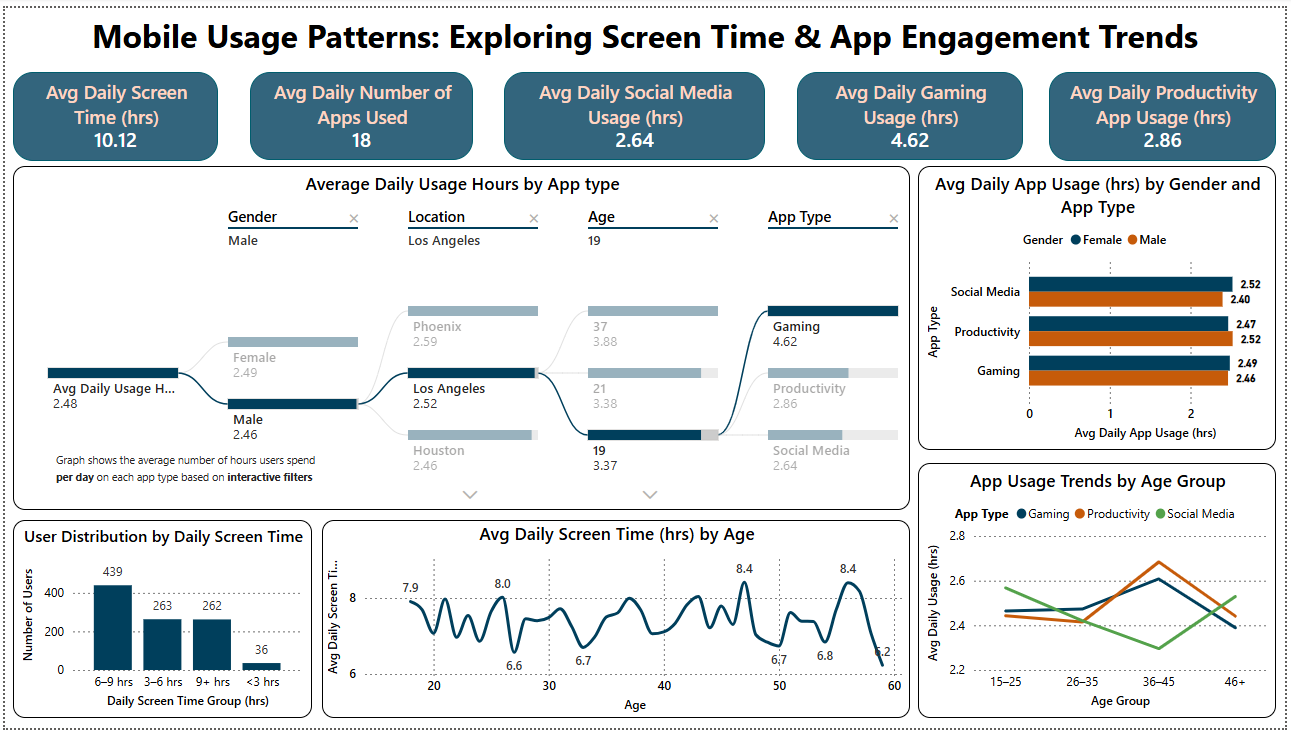

The dashboard page shown, as its layout file describes it:
{"tool":"powerbi","page":{"name":"Page 1","canvas":[1280,720],"ordinal":0},"visuals":[{"type":"textbox","box":[0,0,1280,75.8],"z":0},{"type":"decompositionTreeVisual","title":"Average Daily Usage Hours by App type","fields":{"ExplainBy":["mobile_usage_behavioral_analysis.Gender","mobile_usage_behavioral_analysis.Location","mobile_usage_behavioral_analysis.Age","App_Usage_By_Type.App_Usage_Type"],"Analyze":["App_Usage_By_Type.Avg Daily Usage Hours by App Type"]},"box":[8.1,157.6,897.3,343.9],"z":0,"group":"g1"},{"type":"card","title":"Avg Daily Screen Time (hrs)","fields":{"Values":["Avg(mobile_usage_behavioral_analysis.Daily_Screen_Time_Hours)"]},"box":[8.1,63.6,205.1,89],"z":1000},{"type":"card","title":"Avg Daily Number of Apps Used","fields":{"Values":["Avg(mobile_usage_behavioral_analysis.Number_of_Apps_Used)"]},"box":[245.4,63.6,223,88.7],"z":2000},{"type":"card","title":"Avg Daily Social Media Usage (hrs)","fields":{"Values":["Avg(mobile_usage_behavioral_analysis.Social_Media_Usage_Hours)"]},"box":[499,63.6,260.6,88.7],"z":3000},{"type":"card","title":"Avg Daily Productivity App Usage (hrs)","fields":{"Values":["Avg(mobile_usage_behavioral_analysis.Productivity_App_Usage_Hours)"]},"box":[1044.2,63.6,226.6,89],"z":4000},{"type":"card","title":"Avg Daily Gaming Usage (hrs)","fields":{"Values":["Avg(mobile_usage_behavioral_analysis.Gaming_App_Usage_Hours)"]},"box":[791.6,63.6,226.6,88.7],"z":5000},{"type":"lineChart","title":"Avg Daily Screen Time (hrs) by Age","fields":{"Y":["Avg(mobile_usage_behavioral_analysis.Daily_Screen_Time_Hours)"],"Category":["mobile_usage_behavioral_analysis.Age (bins)"]},"box":[317,512.2,588.4,197.9],"z":6000},{"type":"clusteredColumnChart","title":"User Distribution by Daily Screen Time","fields":{"Category":["mobile_usage_behavioral_analysis.ScreenTimeGroup"],"Y":["CountNonNull(mobile_usage_behavioral_analysis.User_ID)"]},"box":[8.1,512.2,299.1,197.9],"z":7000},{"type":"clusteredBarChart","title":"Avg Daily App Usage (hrs) by Gender and App Type","fields":{"Category":["App_Usage_By_Type.App Type"],"Y":["Avg(App_Usage_By_Type.Usage_Hours)"],"Series":["GenderLookup.Gender"]},"box":[913.4,157.6,357.3,284.8],"z":8000},{"type":"lineChart","title":"App Usage Trends by Age Group","fields":{"Y":["Avg(App_Usage_By_Type.Usage_Hours)"],"Series":["App_Usage_By_Type.App Type"],"Category":["App_Usage_By_Type.Age_Group"]},"box":[913.4,454.9,357.3,255.2],"z":9000},{"type":"textbox","box":[45.9,436.5,281.6,61.4],"z":11000,"group":"g1"},{"type":"group","id":"g1","title":"Group 1","box":[8.1,157.6,897.3,343.9],"z":11001}]}

Visuals, with their boxes in screenshot pixels (x1, y1, x2, y2), scaled from the page's 1280x720 canvas onto the 1291x735 screenshot:
textbox: box=[0, 0, 1290, 77]
"Average Daily Usage Hours by App type" decompositionTreeVisual: box=[8, 161, 913, 512]
"Avg Daily Screen Time (hrs)" card: box=[8, 65, 215, 156]
"Avg Daily Number of Apps Used" card: box=[248, 65, 472, 155]
"Avg Daily Social Media Usage (hrs)" card: box=[503, 65, 766, 155]
"Avg Daily Productivity App Usage (hrs)" card: box=[1053, 65, 1282, 156]
"Avg Daily Gaming Usage (hrs)" card: box=[798, 65, 1027, 155]
"Avg Daily Screen Time (hrs) by Age" lineChart: box=[320, 523, 913, 725]
"User Distribution by Daily Screen Time" clusteredColumnChart: box=[8, 523, 310, 725]
"Avg Daily App Usage (hrs) by Gender and App Type" clusteredBarChart: box=[921, 161, 1282, 452]
"App Usage Trends by Age Group" lineChart: box=[921, 464, 1282, 725]
textbox: box=[46, 446, 330, 508]
"Group 1" group: box=[8, 161, 913, 512]
